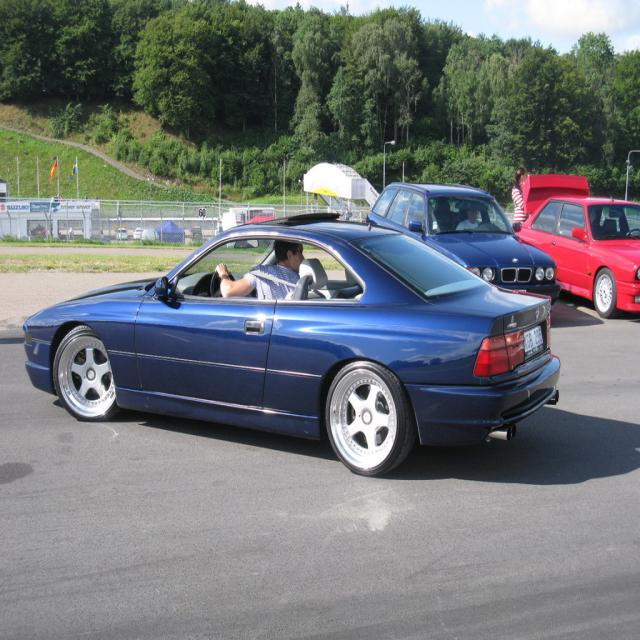car: (21, 214, 566, 478)
